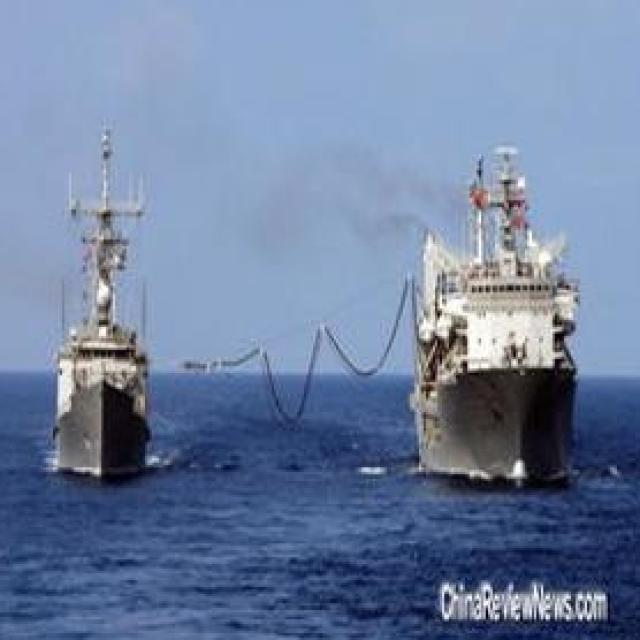navalvessels: (382, 131, 568, 479), (33, 140, 155, 478)
